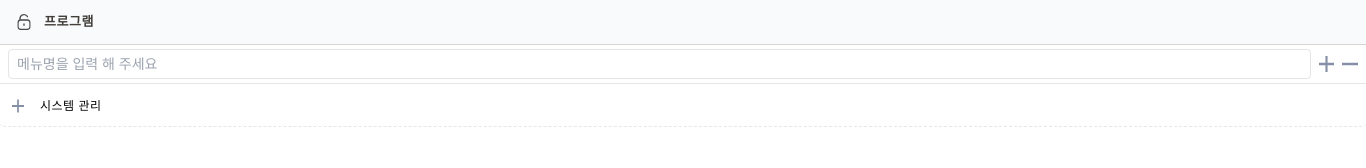
Test: MenuTree - 메뉴 트리 컴포넌트 › 메뉴 검색 테스트 › 검색어가 2자 미만일 때 필터링이 동작하지 않아야 한다
Type "시" into the field with placeholder "메뉴명을 입력 해 주세요" at x=660, y=64, box x1=8 y1=49 x2=1311 y2=79
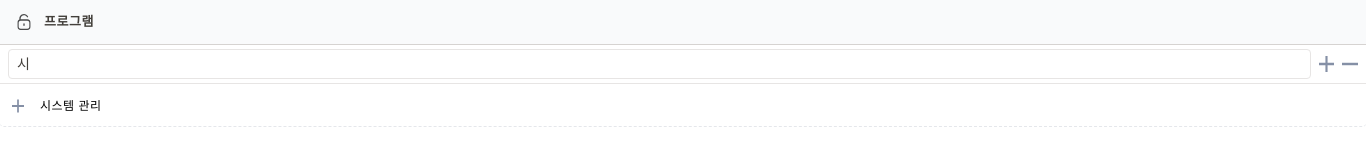
Note: 시스템 관리 메뉴를 확장
Click the picture with alt text "expand" at x=16, y=106, box x1=8 y1=98 x2=24 y2=114
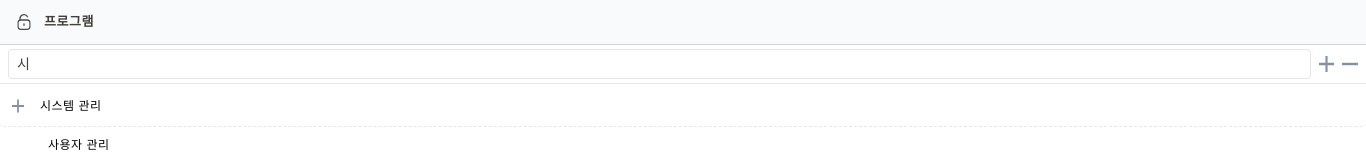
Check: the text "시스템 관리" is shown, box x1=40 y1=100 x2=102 y2=112
Check: the text "사용자 관리" is shown, box x1=48 y1=139 x2=110 y2=151
